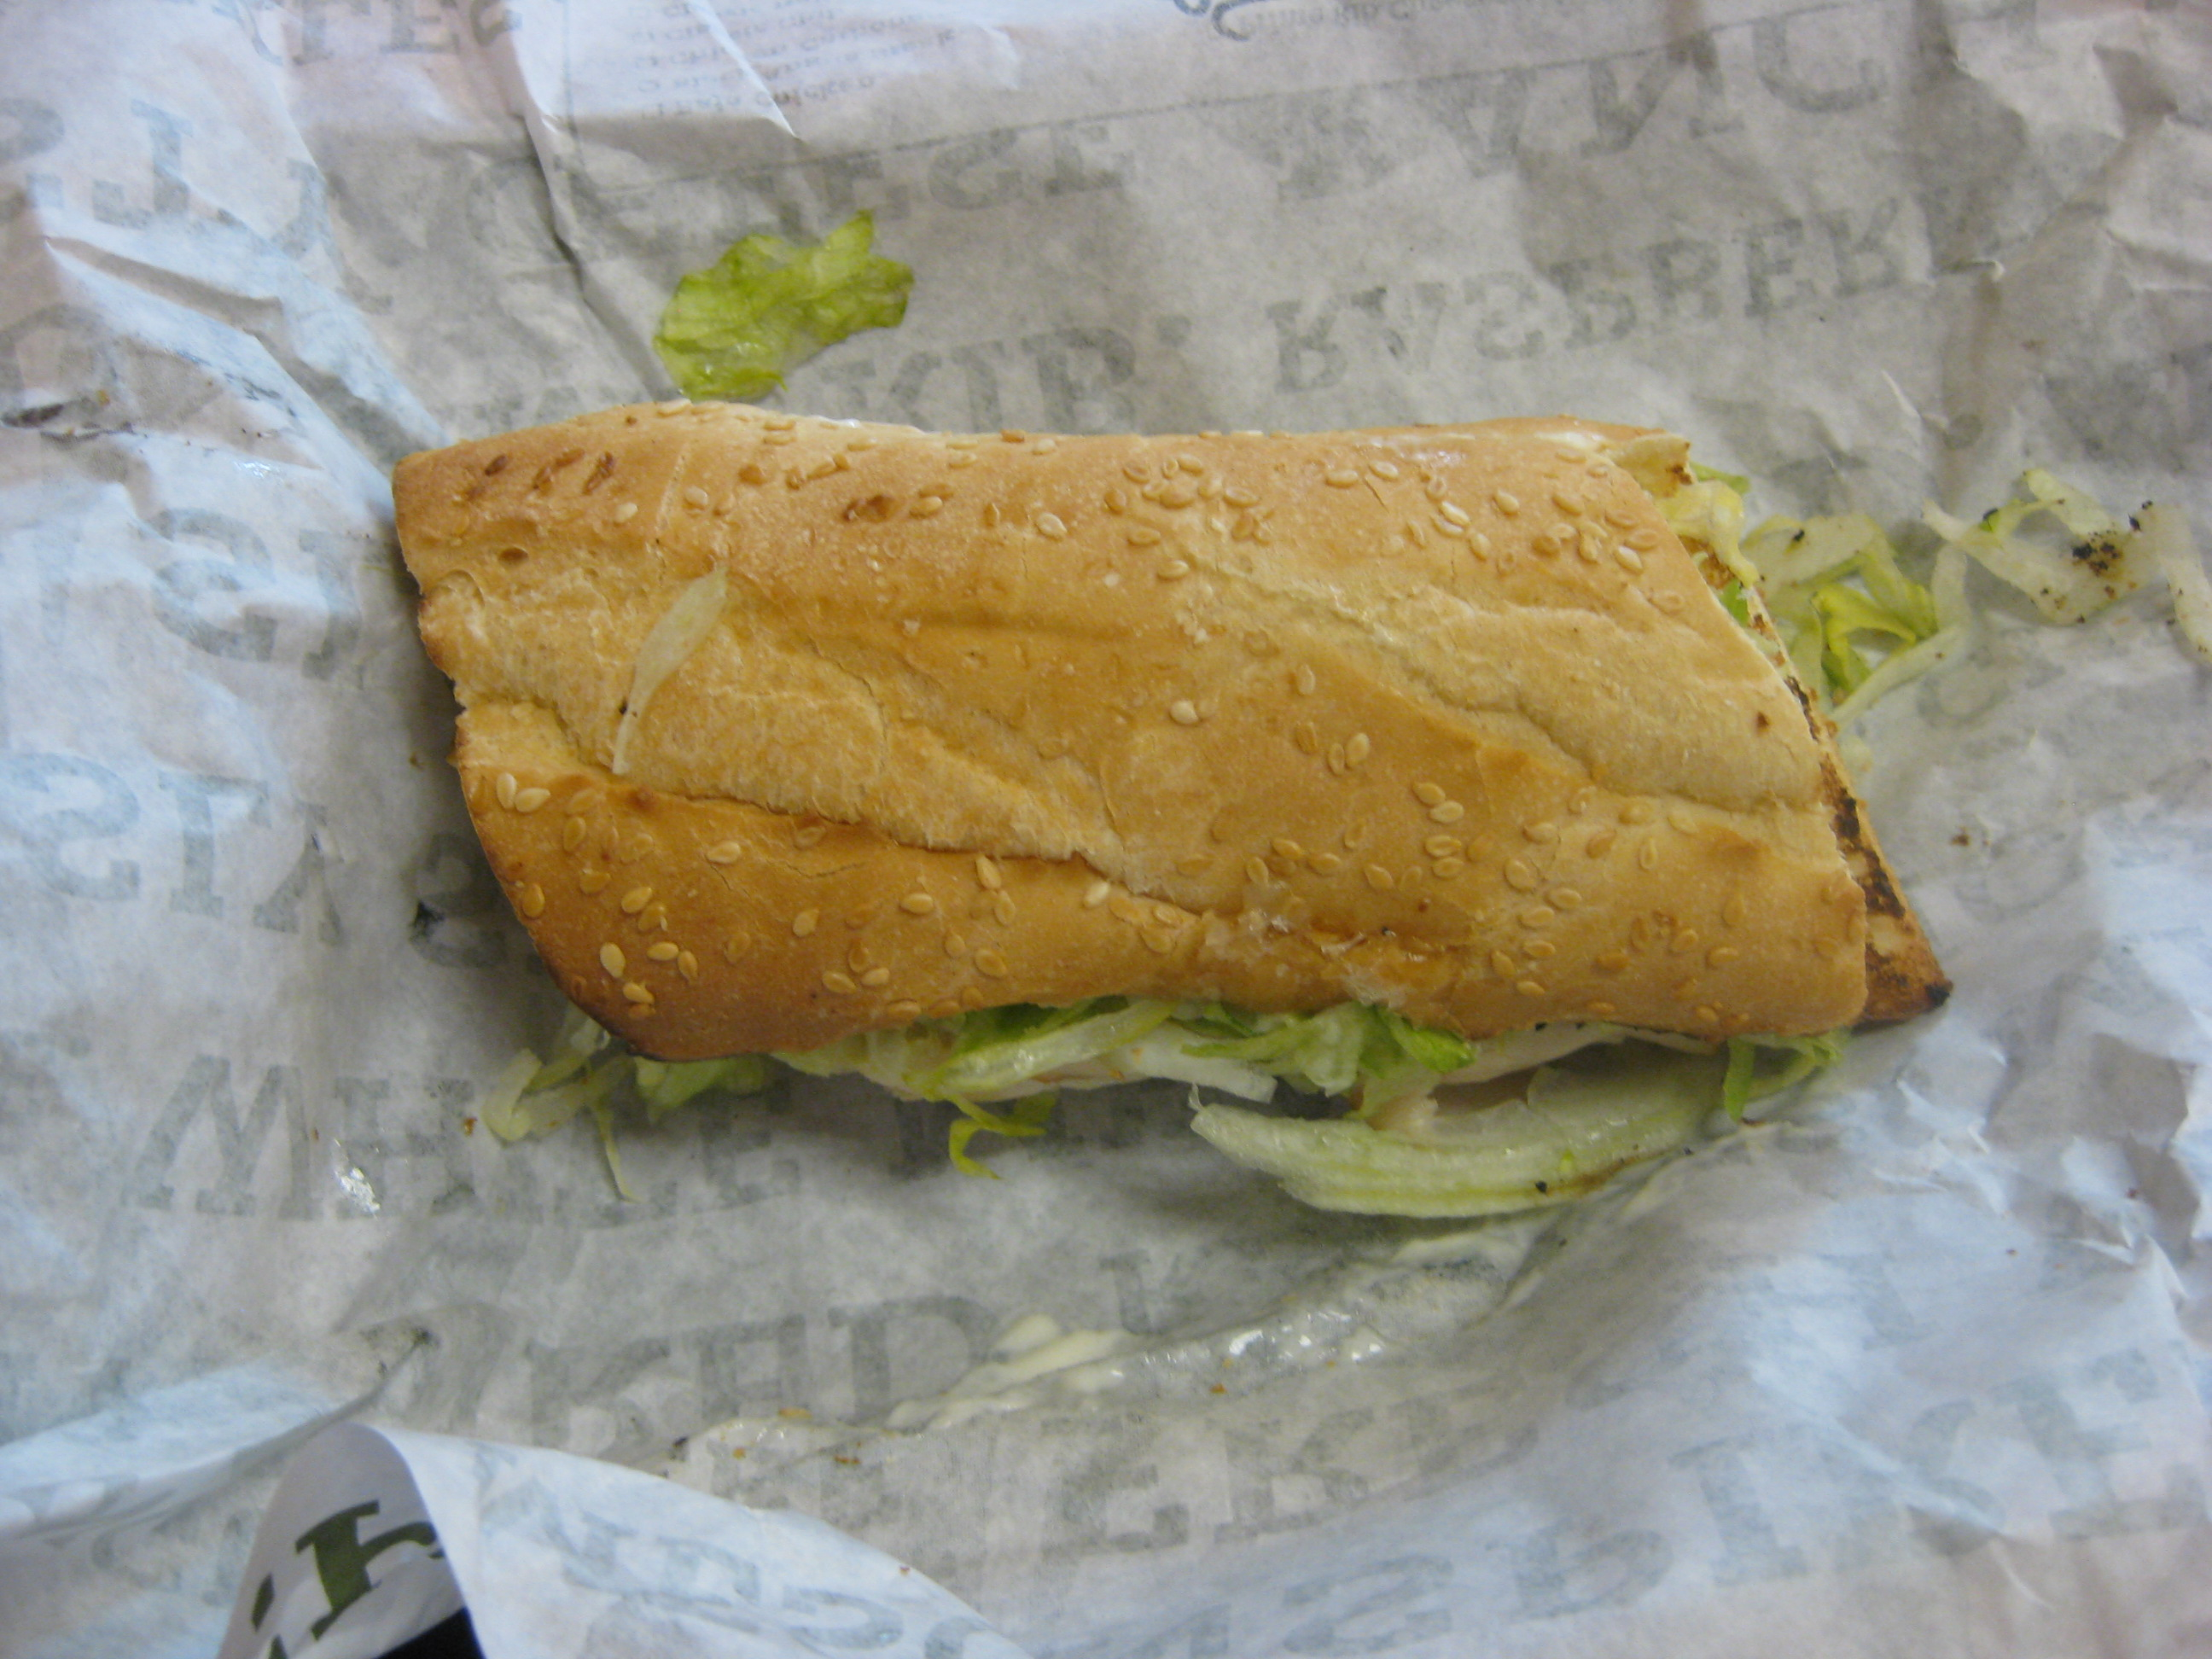sub: (289, 266, 1975, 1188)
